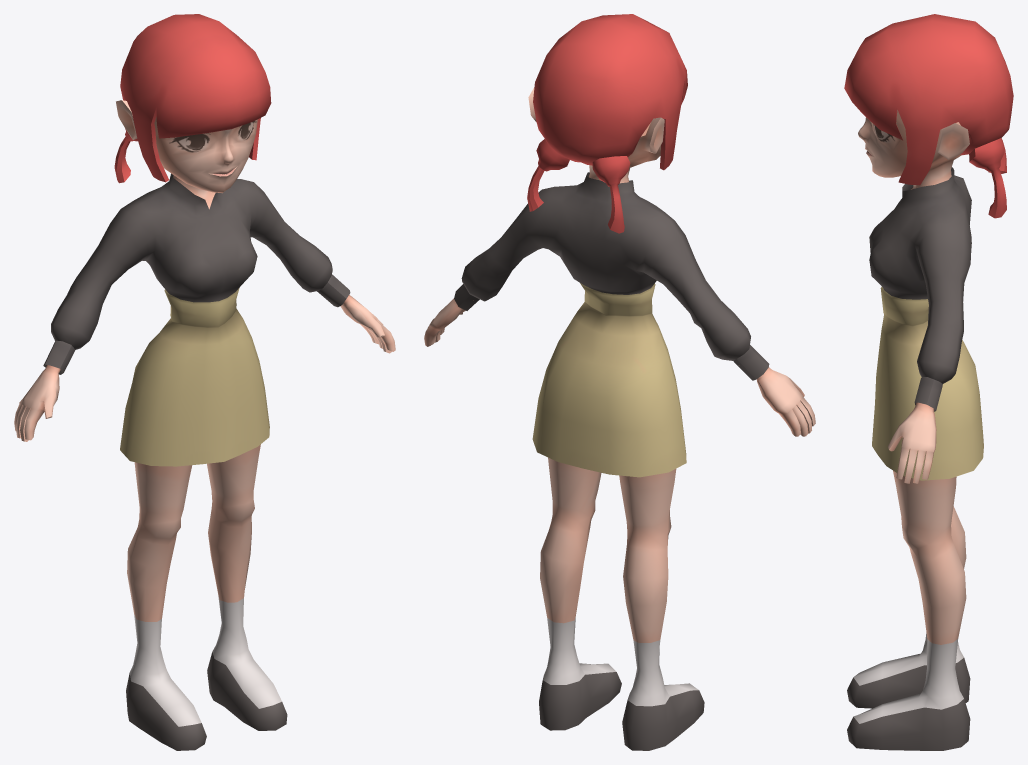
The model's file is Char1_traditional_model2.FBX.
3 views of the same model, side by side, from view 1: azimuth 30°, elevation 25°; view 2: azimuth 150°, elevation 25°; view 3: azimuth 270°, elevation 25° (orthographic). The views are drawn at different scales.
Visible parts, largest first — view 1: Cylinder001; view 2: Cylinder001; view 3: Cylinder001.
Boxes of the visible parts, <box> form: Cylinder001: <box>14,14,395,750</box>; Cylinder001: <box>424,14,815,750</box>; Cylinder001: <box>844,14,1013,750</box>.
Bounding box in the file's own units: 88.64 × 158 × 34.6.
1 material, 1 textured.
